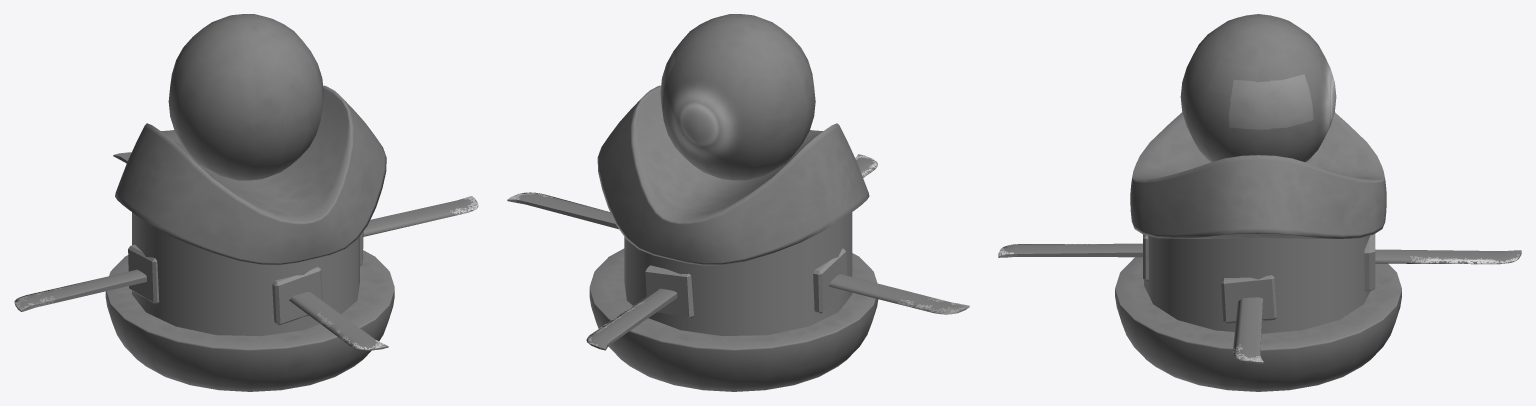
The model's file is choppinbot.fbx.
3 renders of one model, left to right at view 1: azimuth 30°, elevation 25°; view 2: azimuth 150°, elevation 25°; view 3: azimuth 270°, elevation 25°, orthographic.
Parts seen in each view (by area): view 1: fusedbody_Cube.004; view 2: fusedbody_Cube.004; view 3: fusedbody_Cube.004.
Boxes of the visible parts, left/top/right/bottom form: fusedbody_Cube.004: left=14, top=14, right=478, bottom=391; fusedbody_Cube.004: left=507, top=14, right=969, bottom=391; fusedbody_Cube.004: left=998, top=14, right=1521, bottom=391.
Size of the model in its own units: 25.69 by 18.47 by 25.74.
